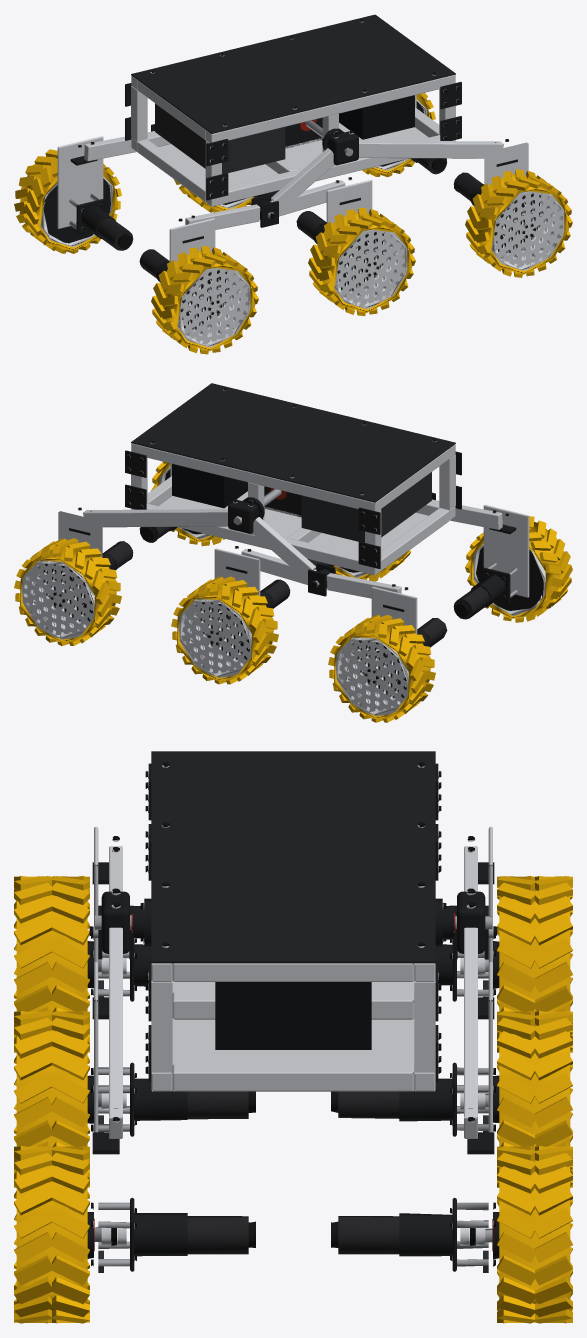
Rendered from taykut2027.lod1.glb.
The picture shows the model from 3 angles, top to bottom: view 1: azimuth 30°, elevation 25°; view 2: azimuth 150°, elevation 25°; view 3: azimuth 270°, elevation 25°; orthographic projection. The views are drawn at different scales.
Parts seen in each view (by area): view 1: body_mesh, wheel_RR_mesh, wheel_FR_mesh, wheel_MR_mesh, rocker_R_mesh, bogie_R_mesh, bogie_L_mesh, wheel_RL_mesh, wheel_FL_mesh, wheel_ML_mesh, rocker_L_mesh; view 2: body_mesh, wheel_FL_mesh, wheel_RL_mesh, wheel_ML_mesh, rocker_L_mesh, bogie_L_mesh, bogie_R_mesh, wheel_RR_mesh, wheel_FR_mesh, wheel_MR_mesh, rocker_R_mesh; view 3: body_mesh, wheel_FR_mesh, wheel_FL_mesh, rocker_L_mesh, rocker_R_mesh, wheel_MR_mesh, wheel_ML_mesh, wheel_RR_mesh, wheel_RL_mesh, bogie_R_mesh, bogie_L_mesh.
Part boxes in pixels (<box>): body_mesh: <box>125,14,461,206</box>; wheel_RR_mesh: <box>151,246,258,354</box>; wheel_FR_mesh: <box>465,169,572,277</box>; wheel_MR_mesh: <box>308,207,415,315</box>; rocker_R_mesh: <box>251,120,528,227</box>; bogie_R_mesh: <box>139,177,372,282</box>; bogie_L_mesh: <box>57,131,278,250</box>; wheel_RL_mesh: <box>14,149,121,253</box>; wheel_FL_mesh: <box>362,93,435,177</box>; wheel_ML_mesh: <box>174,179,254,212</box>; rocker_L_mesh: <box>151,95,447,174</box>; body_mesh: <box>125,383,461,575</box>; wheel_FL_mesh: <box>14,538,121,645</box>; wheel_RL_mesh: <box>328,615,435,722</box>; wheel_ML_mesh: <box>171,576,278,684</box>; rocker_L_mesh: <box>58,488,335,596</box>; bogie_L_mesh: <box>214,546,447,647</box>; bogie_R_mesh: <box>308,499,529,619</box>; wheel_RR_mesh: <box>465,516,572,622</box>; wheel_FR_mesh: <box>151,461,224,546</box>; wheel_MR_mesh: <box>333,550,410,581</box>; rocker_R_mesh: <box>139,463,435,542</box>; body_mesh: <box>131,751,455,1091</box>; wheel_FR_mesh: <box>14,1146,113,1323</box>; wheel_FL_mesh: <box>475,1146,572,1323</box>; rocker_L_mesh: <box>331,888,499,1272</box>; rocker_R_mesh: <box>87,888,255,1272</box>; wheel_MR_mesh: <box>14,1011,101,1187</box>; wheel_ML_mesh: <box>485,1011,572,1187</box>; wheel_RR_mesh: <box>14,875,101,1052</box>; wheel_RL_mesh: <box>485,875,572,1052</box>; bogie_R_mesh: <box>87,826,255,1136</box>; bogie_L_mesh: <box>331,826,499,1136</box>.
Size of the model in its own units: 1.15 by 0.5081 by 0.7871.
